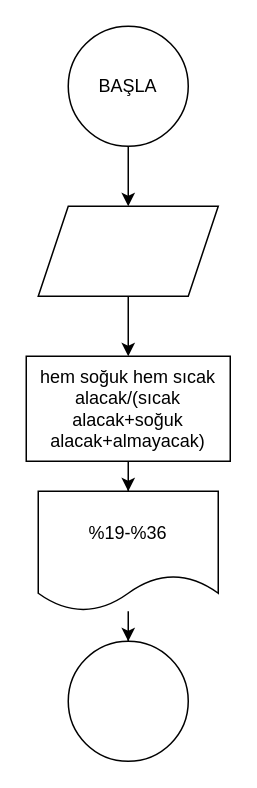
The diagram is 257 pixels wide and 788 high, and some of its shapes have lost their labels. Each missing label, with the centre of its shape:
"doğum günü davetlileri" belongs at point 127,250.
"DUR" belongs at point 127,700.
